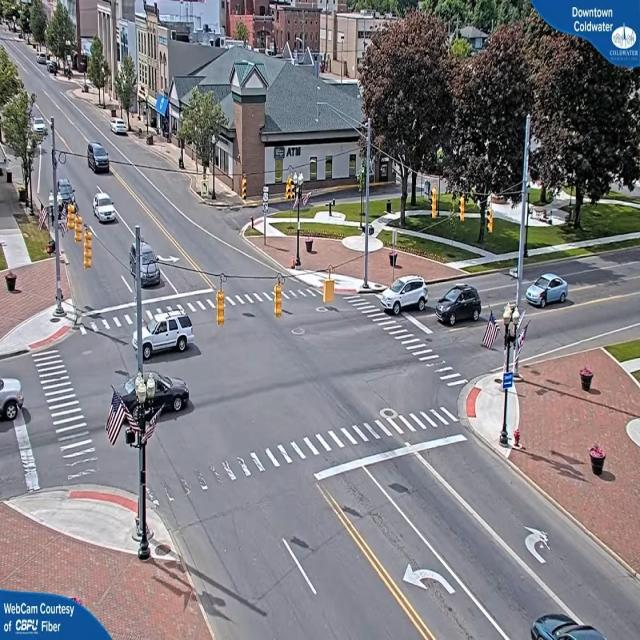car: (146, 310, 196, 358), (434, 285, 482, 328), (149, 374, 191, 420), (381, 276, 429, 314), (131, 237, 163, 290), (526, 270, 570, 307), (93, 193, 118, 223), (86, 144, 110, 174)
